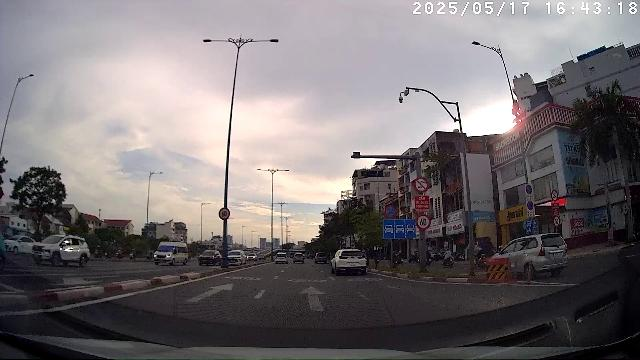127-toc-do-toi-da-50: (554, 216, 560, 226)
127-toc-do-toi-da-60: (415, 214, 431, 230), (218, 208, 230, 220)
